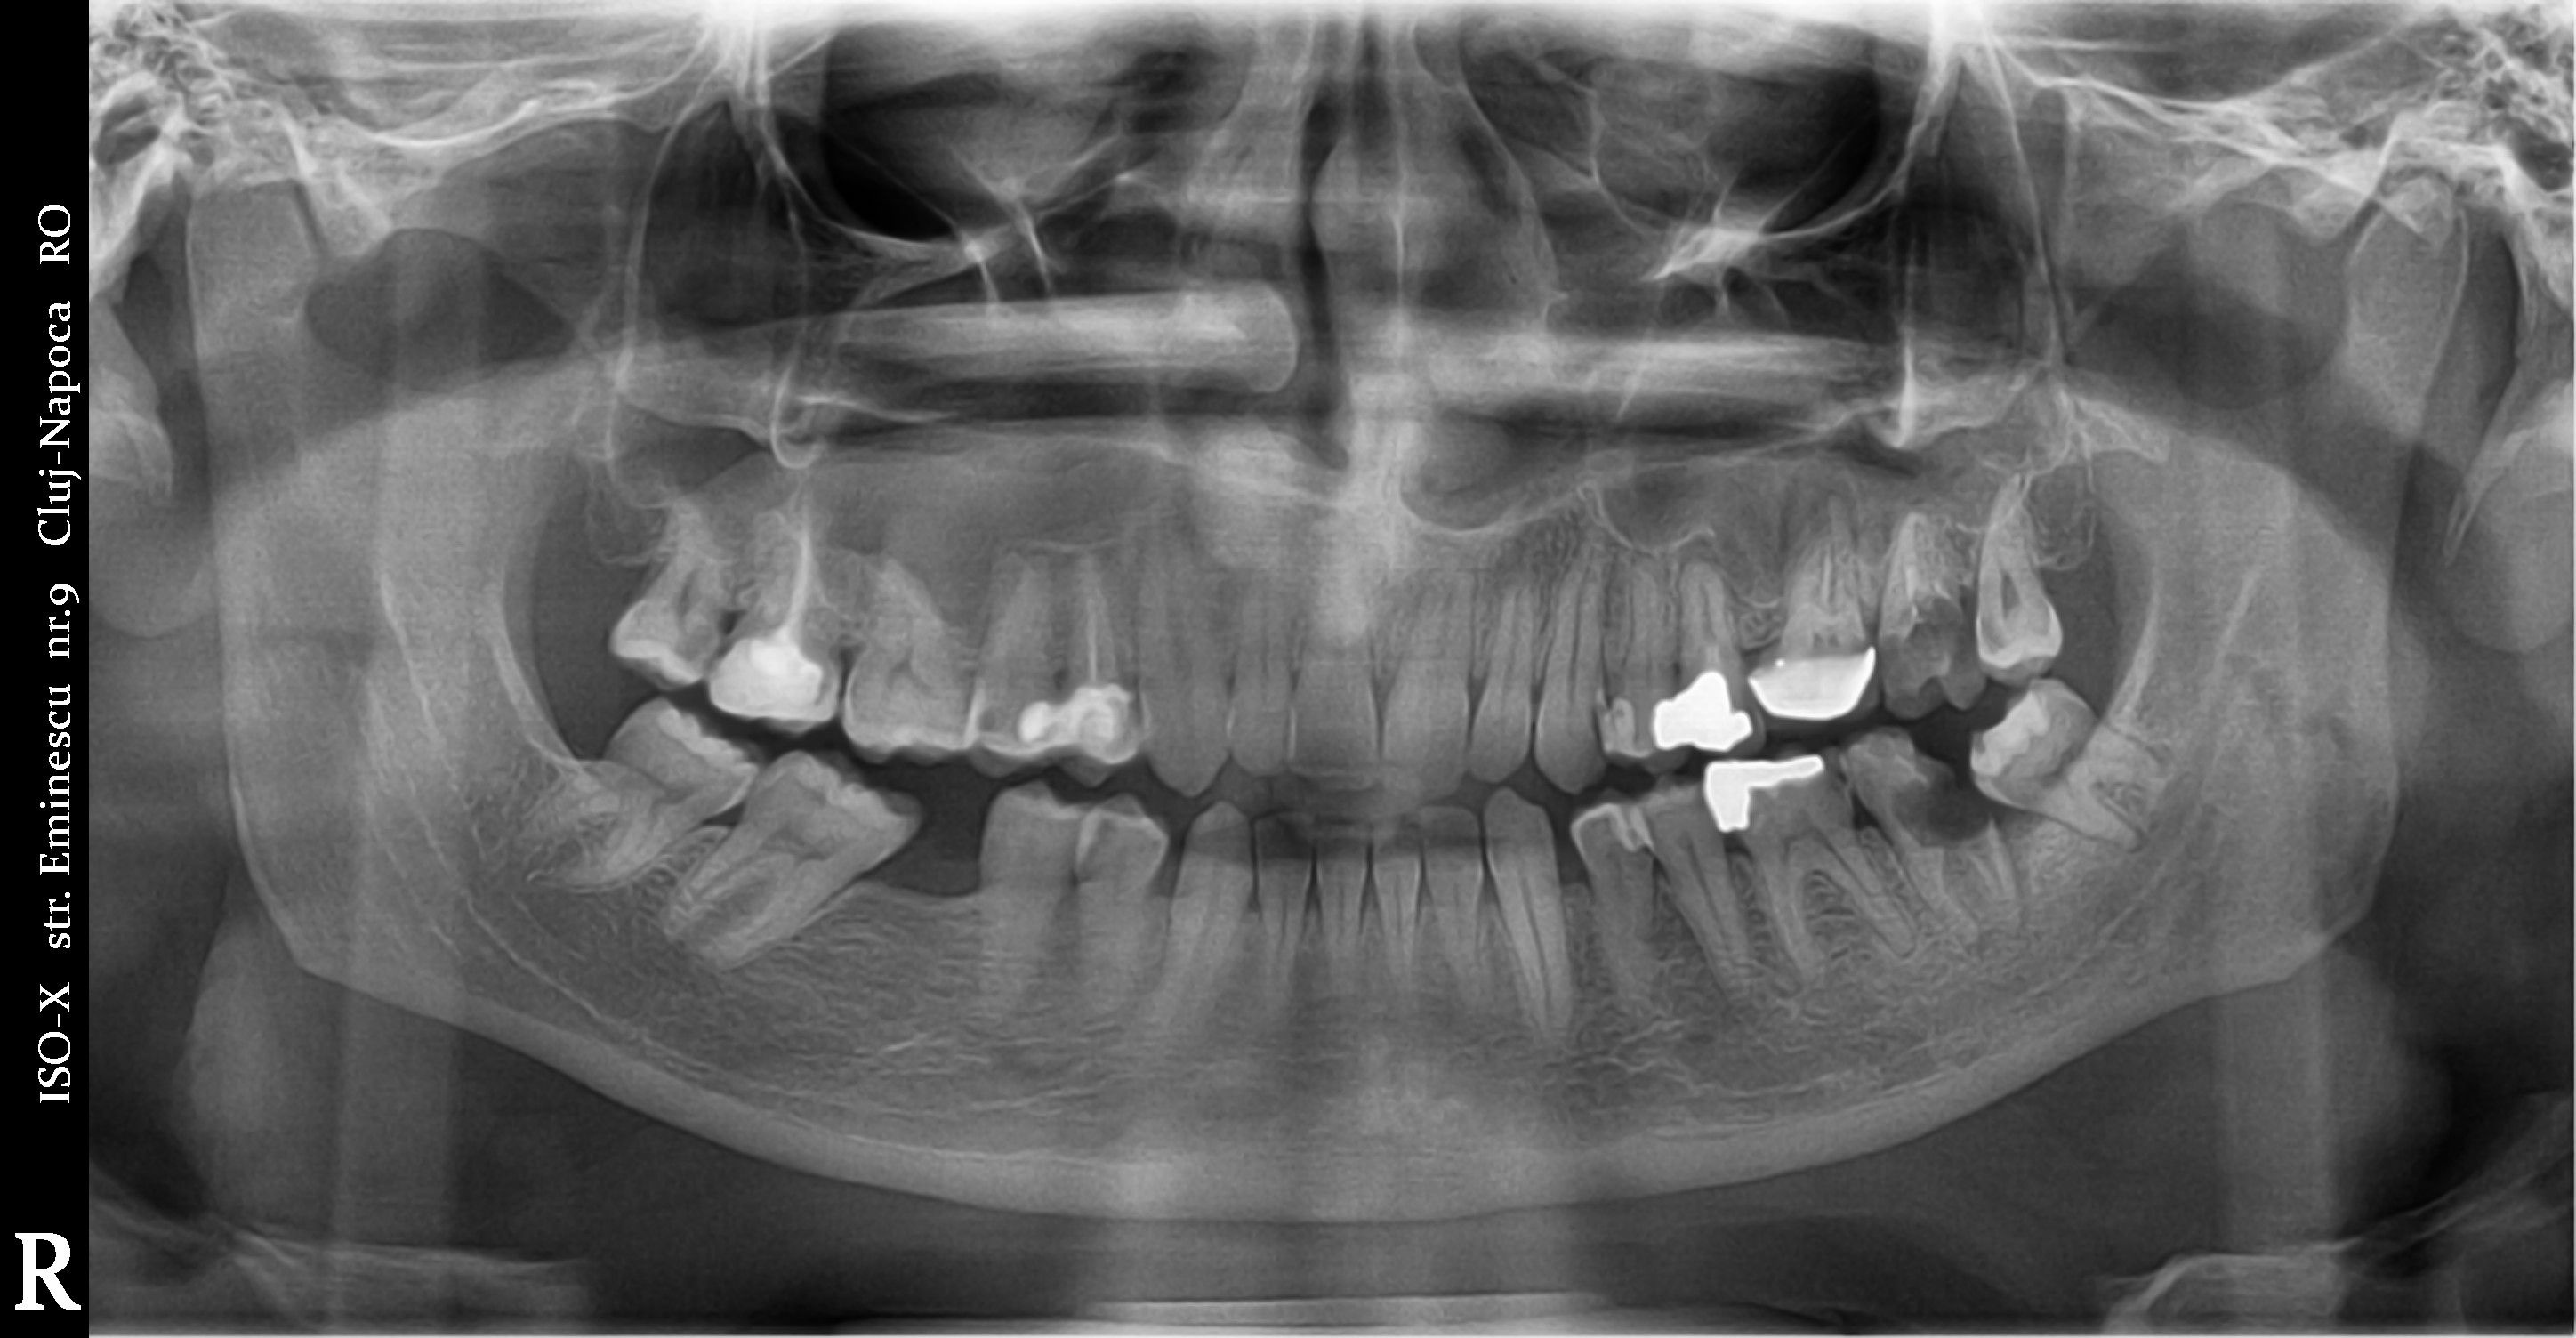API: (1772, 447, 1872, 525), (1937, 926, 2005, 982), (2114, 822, 2157, 871)
CAR: (1877, 730, 2004, 859), (1871, 602, 1980, 677), (666, 603, 721, 680), (1963, 598, 2019, 660), (968, 695, 1017, 738)
OBT: (1659, 736, 1842, 847), (700, 626, 843, 726), (1009, 675, 1153, 765), (1629, 666, 1758, 764), (1963, 683, 2060, 784), (1574, 701, 1654, 770)
PRR: (1734, 639, 1876, 738)
